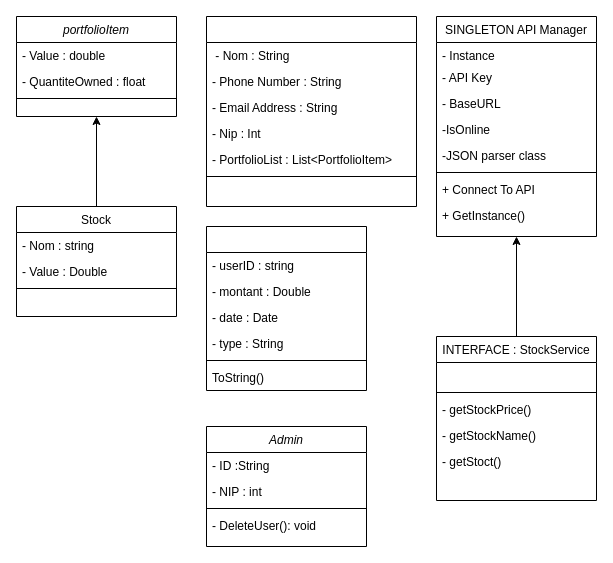
Image size: 613x563. Some labels were removed from this diagram. Each missing label, with the box of its shape:
Transaction: (206, 226, 366, 390)
User: (206, 16, 416, 206)
